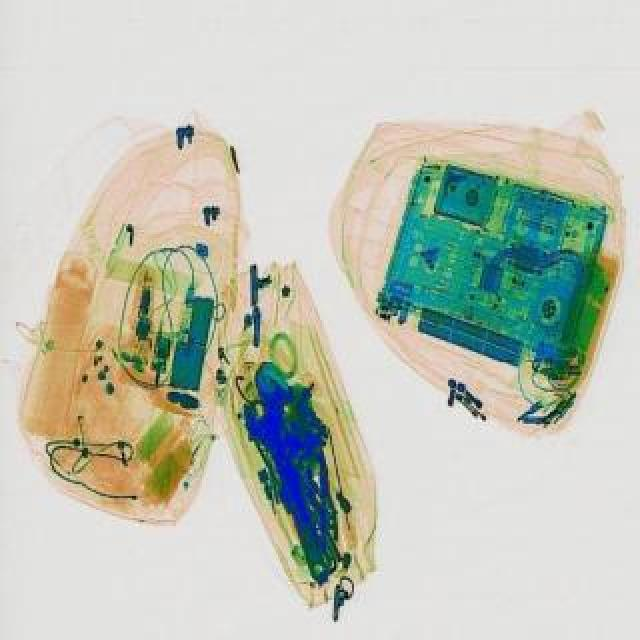scissors: (236, 388, 344, 586)
